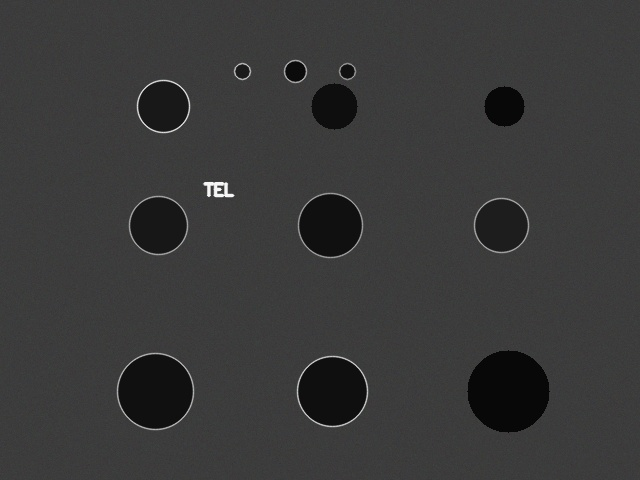hole: (467, 350, 549, 432), (117, 353, 193, 429), (297, 356, 367, 426), (298, 193, 362, 257), (129, 196, 187, 254), (474, 198, 528, 252), (137, 80, 189, 132), (311, 83, 357, 129), (484, 86, 524, 126), (284, 60, 306, 82), (234, 63, 250, 79), (339, 63, 355, 79)
